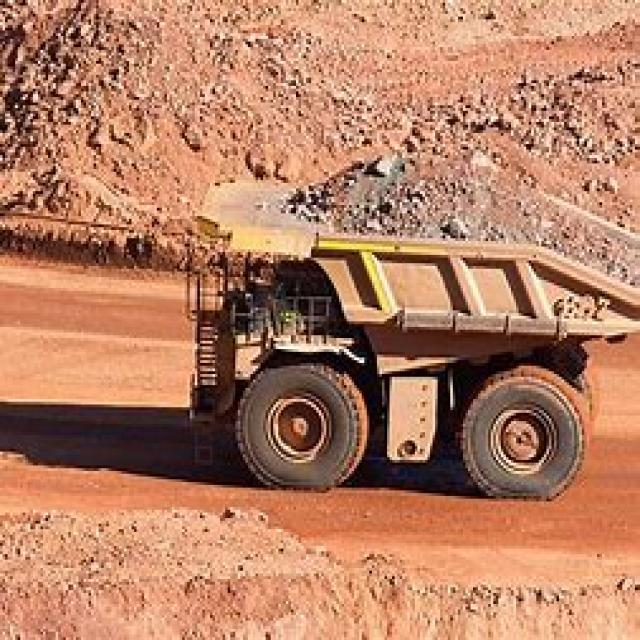dump_truck: (167, 135, 637, 512)
